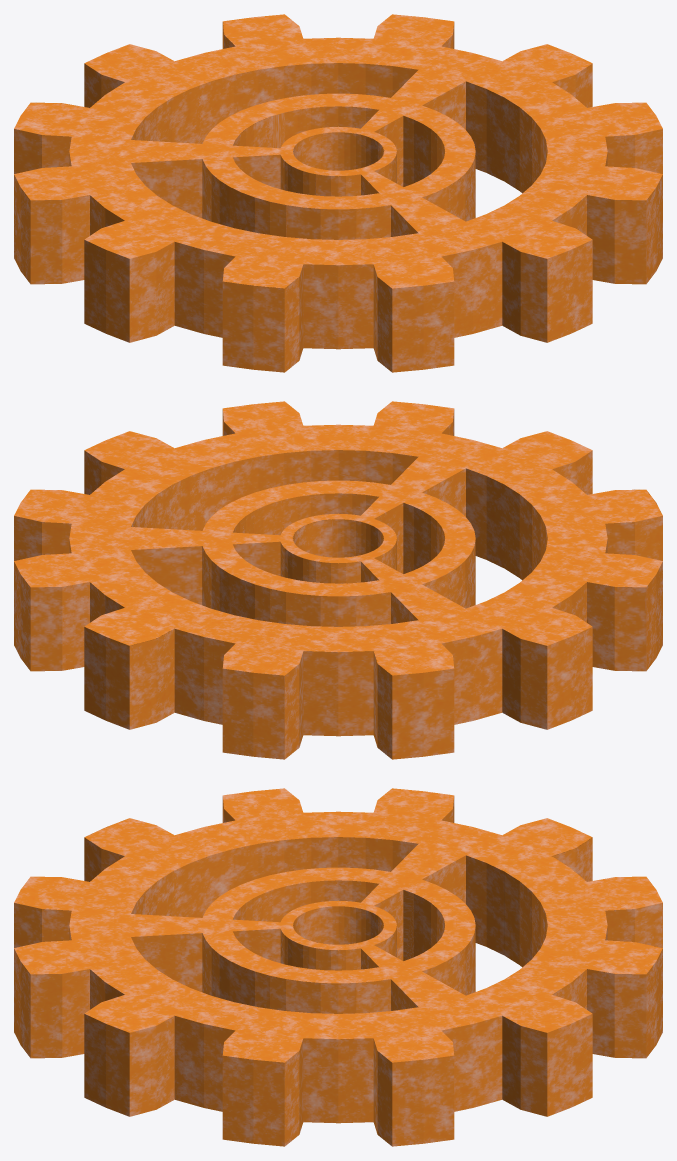
The model's file is cogwheel_large.fbx.
3 renders of one model, top to bottom at view 1: azimuth 30°, elevation 25°; view 2: azimuth 150°, elevation 25°; view 3: azimuth 270°, elevation 25°, orthographic.
Visible parts, largest first — view 1: Gear; view 2: Gear; view 3: Gear.
Boxes of the visible parts, left/top/right/bottom form: Gear: left=14, top=14, right=662, bottom=372; Gear: left=14, top=401, right=662, bottom=759; Gear: left=14, top=788, right=662, bottom=1146.
Size of the model in its own units: 280 by 40 by 280.
Materials: 1 (1 with a texture image).
